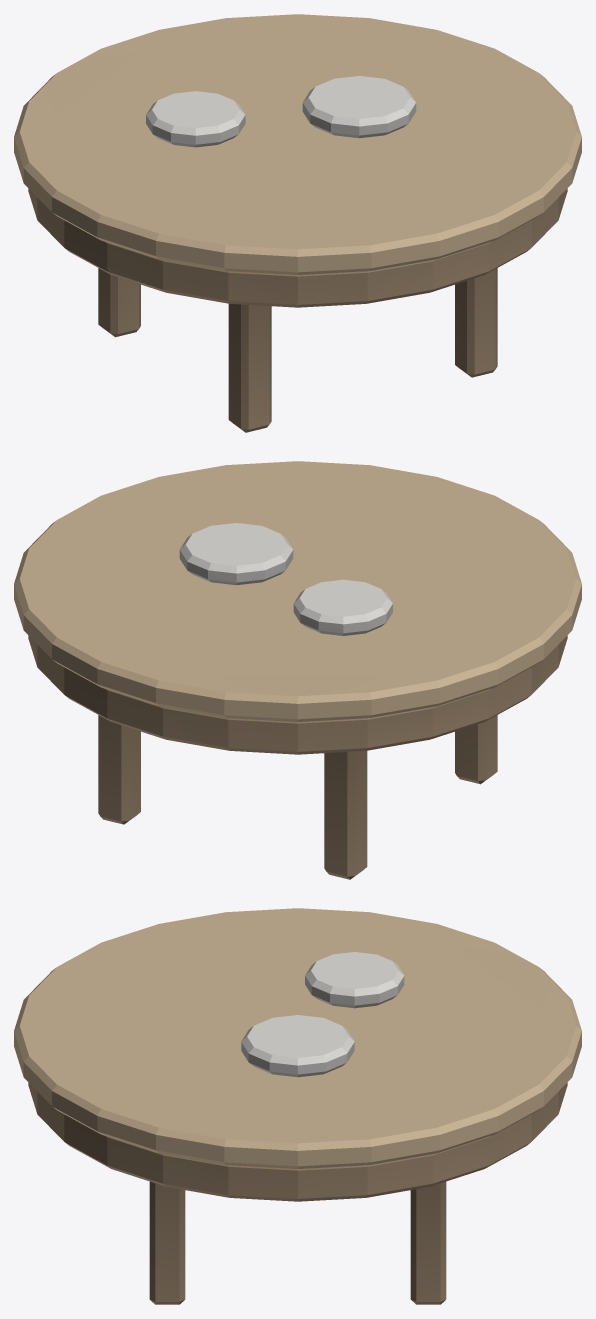
File: furn_soban__oak.glb
3 views of the same model, one above another, from view 1: azimuth 30°, elevation 25°; view 2: azimuth 150°, elevation 25°; view 3: azimuth 270°, elevation 25° (orthographic).
Bounding box in the file's own units: 0.8 × 0.37 × 0.8.
